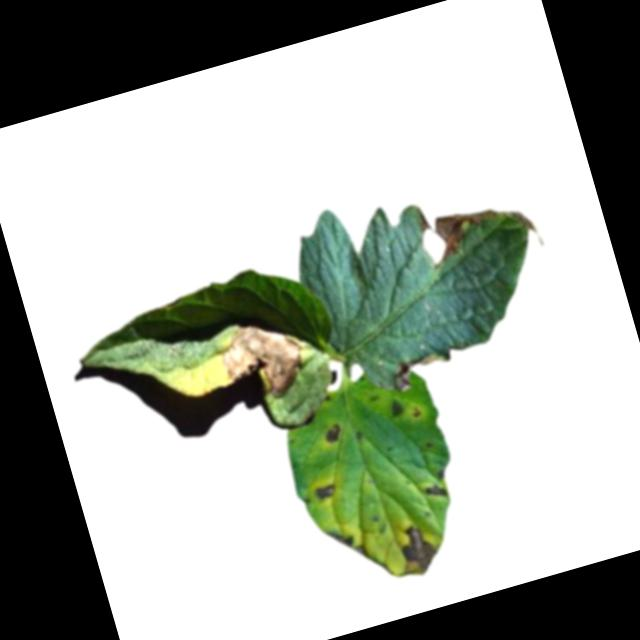Early_blight: (412, 175, 547, 279), (211, 309, 315, 413), (385, 519, 444, 586), (384, 346, 442, 391), (421, 480, 450, 505), (328, 528, 355, 551), (312, 482, 338, 504), (323, 420, 344, 445), (388, 399, 406, 422)
